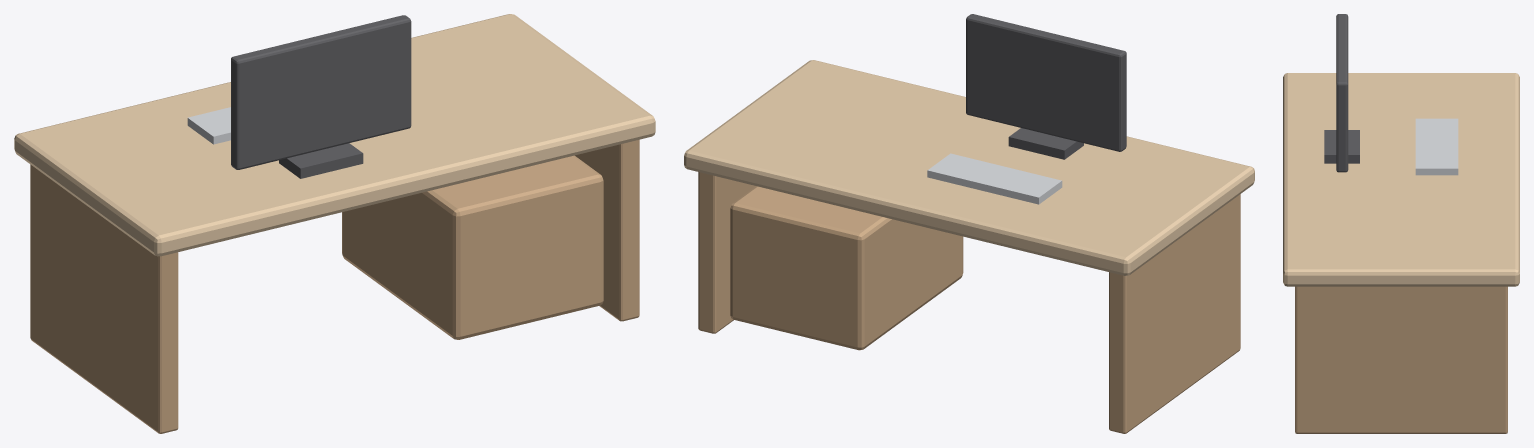
File: desk.glb
3 renders of one model, left to right at view 1: azimuth 30°, elevation 25°; view 2: azimuth 150°, elevation 25°; view 3: azimuth 270°, elevation 25°, orthographic. The views are drawn at different scales.
Parts seen in each view (by area): view 1: Desk; view 2: Desk; view 3: Desk.
Boxes of the visible parts, left/top/right/bottom form: Desk: left=14, top=14, right=655, bottom=433; Desk: left=684, top=14, right=1254, bottom=433; Desk: left=1283, top=14, right=1519, bottom=433.
Bounding box in the file's own units: 2 × 1.26 × 1.
